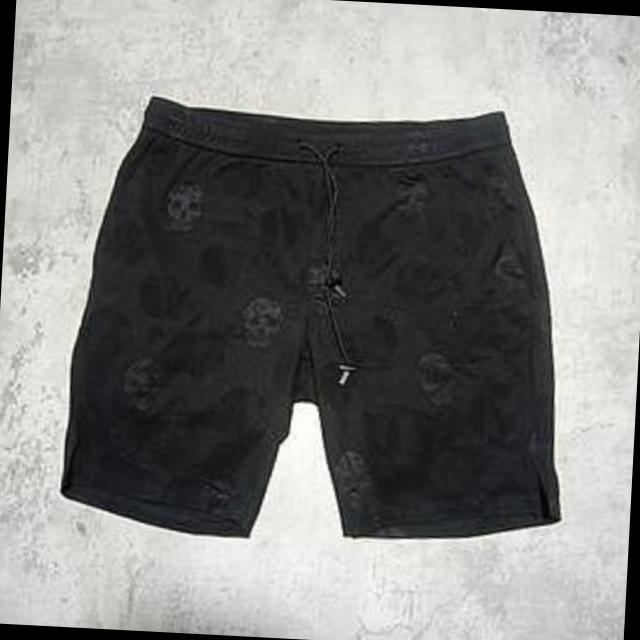SHORT: (46, 79, 594, 560)
